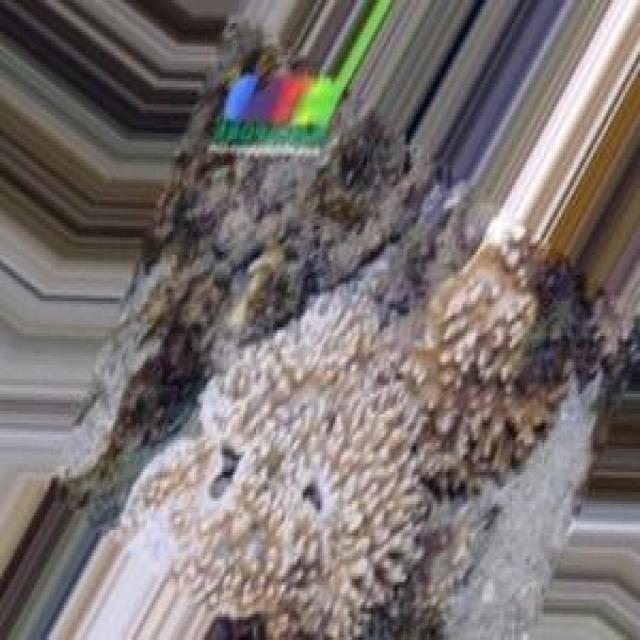Bleached: (100, 281, 444, 639), (406, 242, 597, 498)
